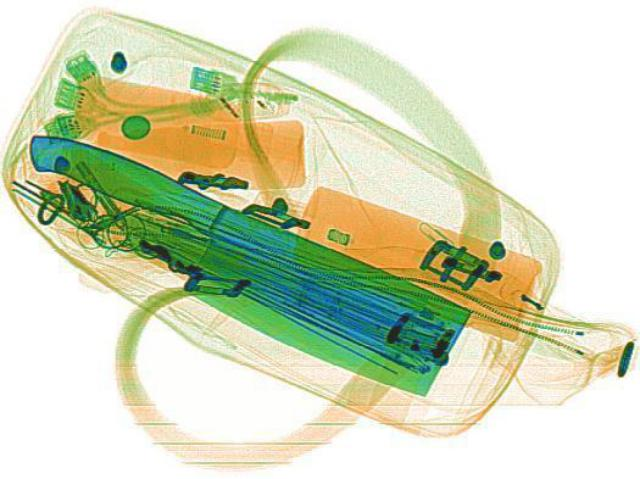Knife: (0, 134, 487, 391)
